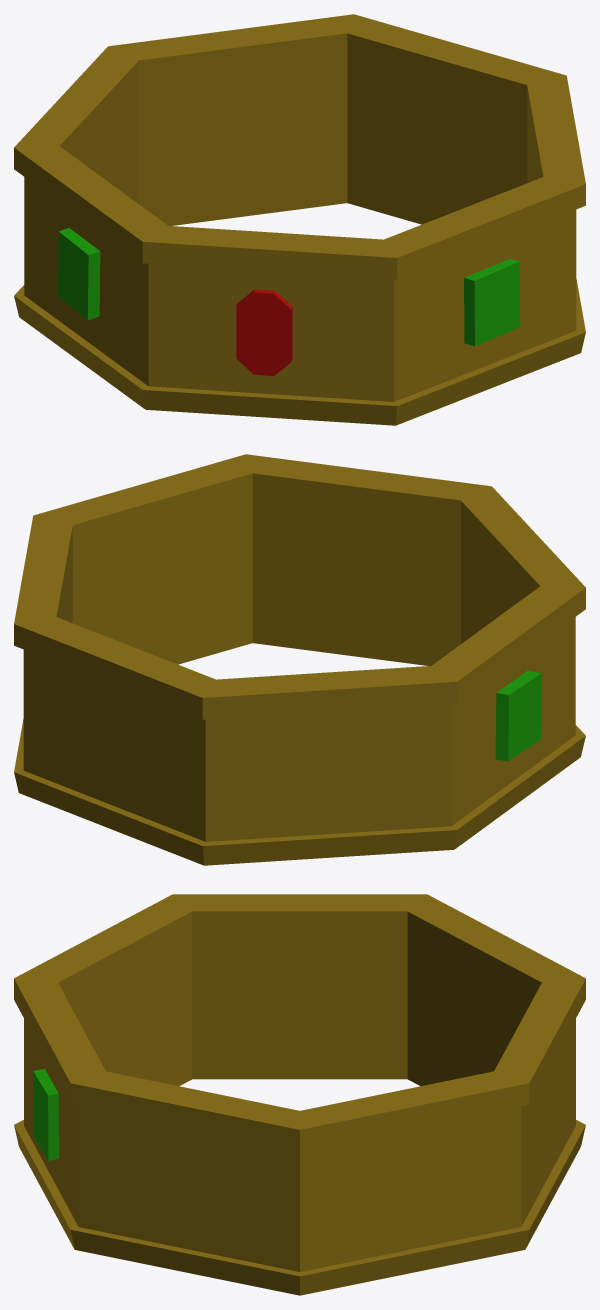
The model's file is Crown.fbx.
3 renders of one model, top to bottom at view 1: azimuth 30°, elevation 25°; view 2: azimuth 150°, elevation 25°; view 3: azimuth 270°, elevation 25°, orthographic.
Parts seen in each view (by area): view 1: Box001; view 2: Box001; view 3: Box001.
Part boxes in pixels (x1,y1,x2,y2): Box001: (14, 14, 585, 425); Box001: (14, 454, 585, 865); Box001: (14, 894, 585, 1295).
Size of the model in its own units: 26.19 by 8.61 by 26.59.
